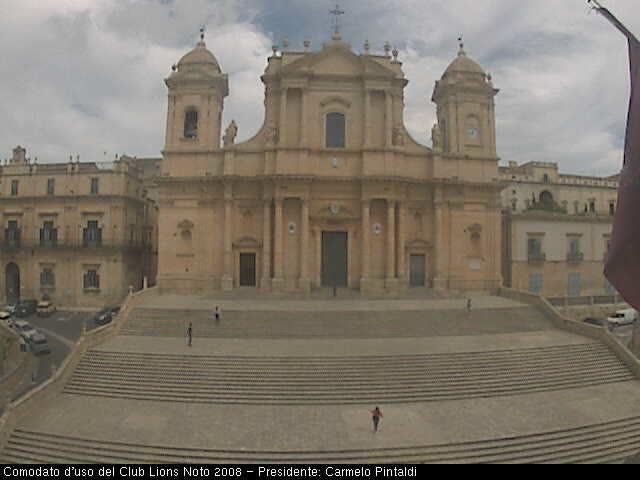person: (369, 405, 384, 432), (184, 321, 194, 347), (212, 306, 222, 327), (465, 299, 473, 321), (331, 280, 338, 297)
